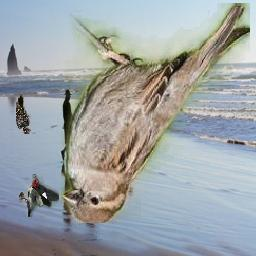Sparrow: (62, 3, 251, 223)
Woodpecker: (19, 175, 59, 218), (17, 94, 32, 134)
